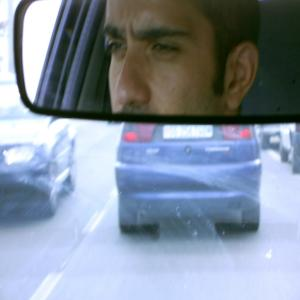Vehicle-registration-plate: (164, 124, 214, 142)
